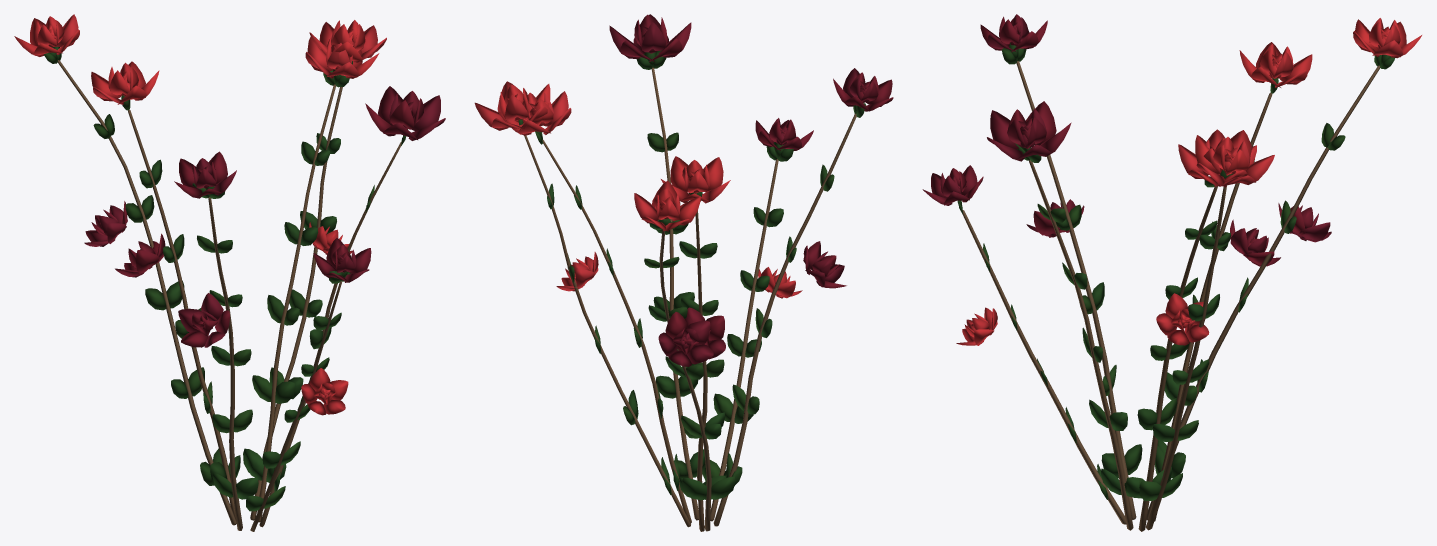
The model's file is bed_rose_bush_red.glb.
The picture shows the model from 3 angles, left to right: view 1: azimuth 30°, elevation 25°; view 2: azimuth 150°, elevation 25°; view 3: azimuth 270°, elevation 25°; orthographic projection. The views are drawn at different scales.
Visible parts, largest first — view 1: Sammel Pflanze, Sammel Holz; view 2: Sammel Pflanze, Sammel Holz; view 3: Sammel Pflanze, Sammel Holz.
Boxes of the visible parts, bbox=[...] form: Sammel Pflanze: bbox=[14, 14, 445, 511]; Sammel Holz: bbox=[57, 60, 401, 531]; Sammel Pflanze: bbox=[474, 14, 893, 500]; Sammel Holz: bbox=[524, 67, 856, 531]; Sammel Pflanze: bbox=[922, 14, 1421, 501]; Sammel Holz: bbox=[962, 61, 1379, 531].
Size of the model in its own units: 0.5156 by 0.7077 by 0.6853.
